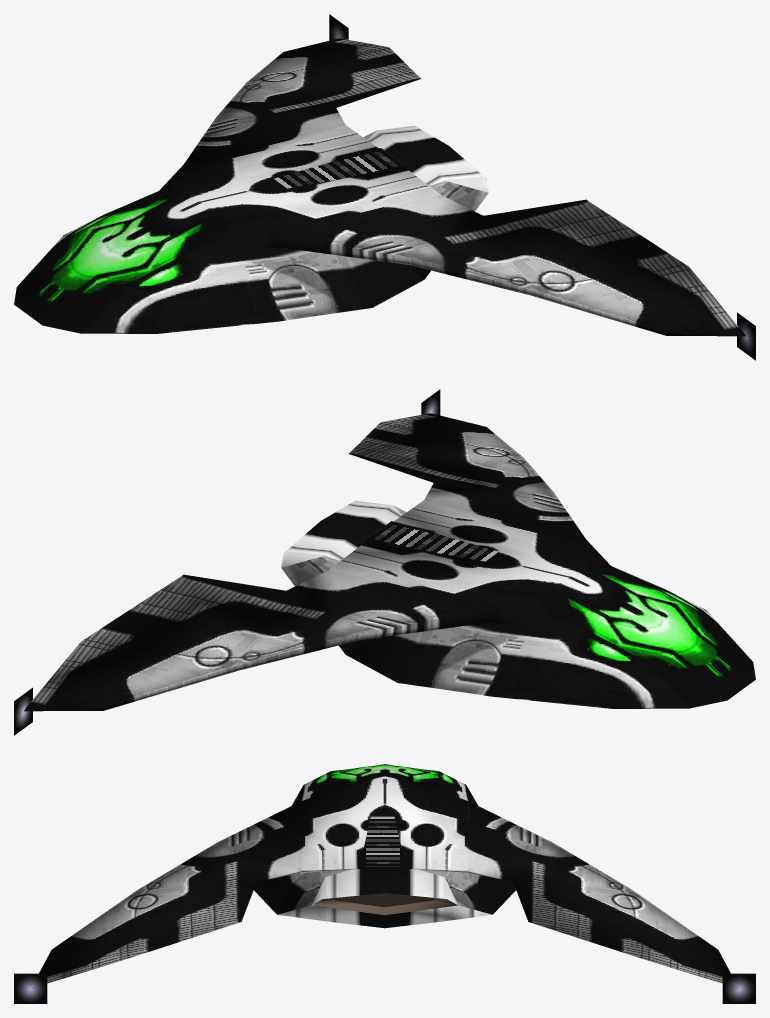
The model's file is JVF01A.obj.
3 views of the same model, one above another, from view 1: azimuth 30°, elevation 25°; view 2: azimuth 150°, elevation 25°; view 3: azimuth 270°, elevation 25° (orthographic). The views are drawn at different scales.
Parts seen in each view (by area): view 1: JVF01A0, JVFE01A0, TOP-DETAIL-10, LF060; view 2: JVF01A0, JVFE01A0, TOP-DETAIL-10, LF110; view 3: JVF01A0, JVFE01A0, JET00, TOP-DETAIL-10, LF110, LF060.
Boxes of the visible parts, left/top/right/bottom form: JVF01A0: left=14, top=38, right=745, bottom=336; JVFE01A0: left=363, top=125, right=488, bottom=279; TOP-DETAIL-10: left=274, top=148, right=406, bottom=188; LF060: left=737, top=312, right=755, bottom=360; JVF01A0: left=24, top=413, right=755, bottom=711; JVFE01A0: left=281, top=500, right=406, bottom=654; TOP-DETAIL-10: left=365, top=521, right=498, bottom=561; LF110: left=14, top=687, right=32, bottom=735; JVF01A0: left=32, top=764, right=738, bottom=988; JVFE01A0: left=277, top=867, right=492, bottom=928; JET00: left=313, top=893, right=457, bottom=915; TOP-DETAIL-10: left=360, top=816, right=405, bottom=866; LF110: left=722, top=973, right=755, bottom=1003; LF060: left=14, top=973, right=47, bottom=1003.
Size of the model in its own units: 73.39 by 11.79 by 105.
6 materials, 6 textured.
